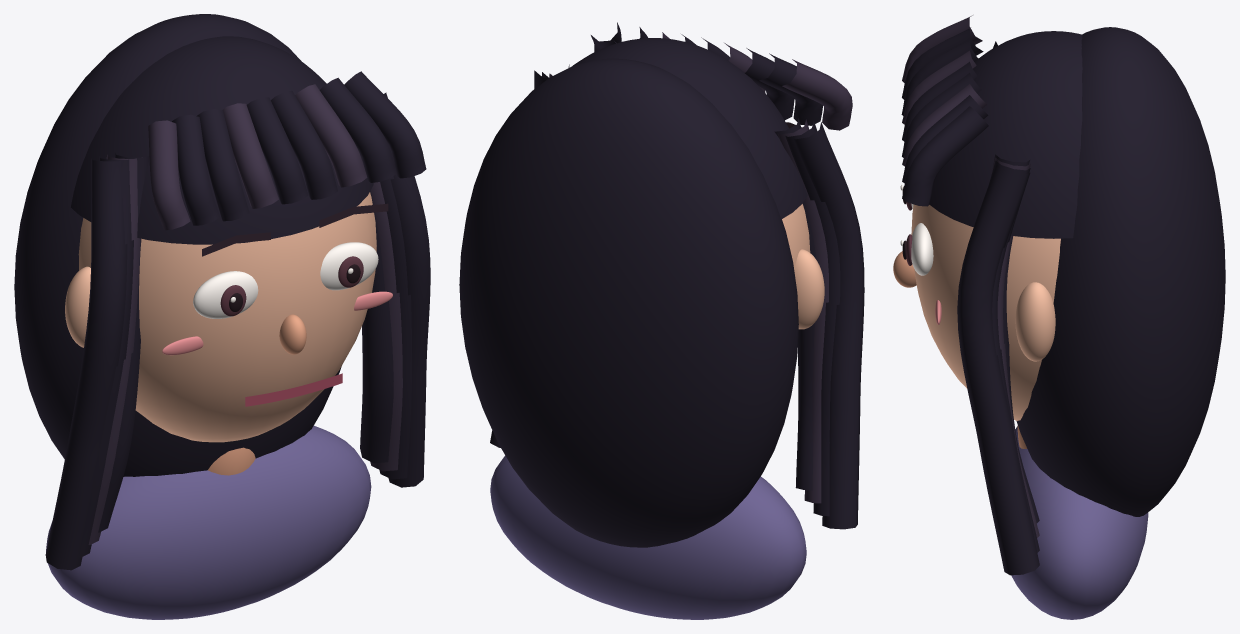
Rendered from mina-face.glb.
3 renders of one model, left to right at view 1: azimuth 30°, elevation 25°; view 2: azimuth 150°, elevation 25°; view 3: azimuth 270°, elevation 25°, orthographic. The views are drawn at different scales.
Parts seen in each view (by area): view 1: shoulders, face, back_hair, hair_cap, left_hair_3, right_hair_3, right_hair_0, right_hair_2, left_hair_2, right_hair_1, fringe_8, fringe_5 (+17 smaller); view 2: back_hair, shoulders, left_hair_3, hair_cap, left_hair_2, left_hair_1, left_hair_0, fringe_0, left_ear, fringe_1, fringe_2, face; view 3: back_hair, hair_cap, right_hair_3, shoulders, face, fringe_8, right_ear, right_hair_2, right_hair_1, fringe_7, fringe_6, fringe_5 (+8 smaller).
Part boxes in pixels (left/top/right/bottom): shoulders: left=46, top=425, right=371, bottom=619; face: left=78, top=192, right=376, bottom=442; back_hair: left=14, top=14, right=341, bottom=476; hair_cap: left=71, top=36, right=373, bottom=244; left_hair_3: left=45, top=159, right=127, bottom=570; right_hair_3: left=384, top=92, right=430, bottom=487; right_hair_0: left=360, top=190, right=393, bottom=463; right_hair_2: left=379, top=176, right=411, bottom=479; left_hair_2: left=79, top=156, right=133, bottom=557; right_hair_1: left=370, top=182, right=402, bottom=471; fringe_8: left=344, top=71, right=426, bottom=178; fringe_5: left=271, top=90, right=337, bottom=199; back_hair: left=459, top=58, right=798, bottom=547; shoulders: left=490, top=455, right=806, bottom=619; left_hair_3: left=793, top=122, right=864, bottom=529; hair_cap: left=572, top=38, right=807, bottom=219; left_hair_2: left=785, top=121, right=840, bottom=516; left_hair_1: left=777, top=119, right=828, bottom=503; left_hair_0: left=774, top=118, right=816, bottom=490; fringe_0: left=782, top=59, right=852, bottom=130; left_ear: left=794, top=249, right=824, bottom=329; fringe_1: left=759, top=53, right=823, bottom=125; fringe_2: left=745, top=48, right=794, bottom=120; face: left=782, top=204, right=810, bottom=269; back_hair: left=1016, top=27, right=1225, bottom=516; hair_cap: left=929, top=31, right=1082, bottom=238; right_hair_3: left=957, top=163, right=1039, bottom=575; shoulders: left=1011, top=426, right=1148, bottom=619; face: left=911, top=204, right=1060, bottom=420; fringe_8: left=902, top=106, right=988, bottom=206; right_ear: left=1015, top=282, right=1055, bottom=361; right_hair_2: left=989, top=160, right=1039, bottom=552; right_hair_1: left=991, top=157, right=1039, bottom=537; fringe_7: left=902, top=95, right=988, bottom=183; fringe_6: left=902, top=84, right=986, bottom=166; fringe_5: left=902, top=73, right=981, bottom=157.
Size of the model in its own units: 1.85 by 2.7 by 1.47.
